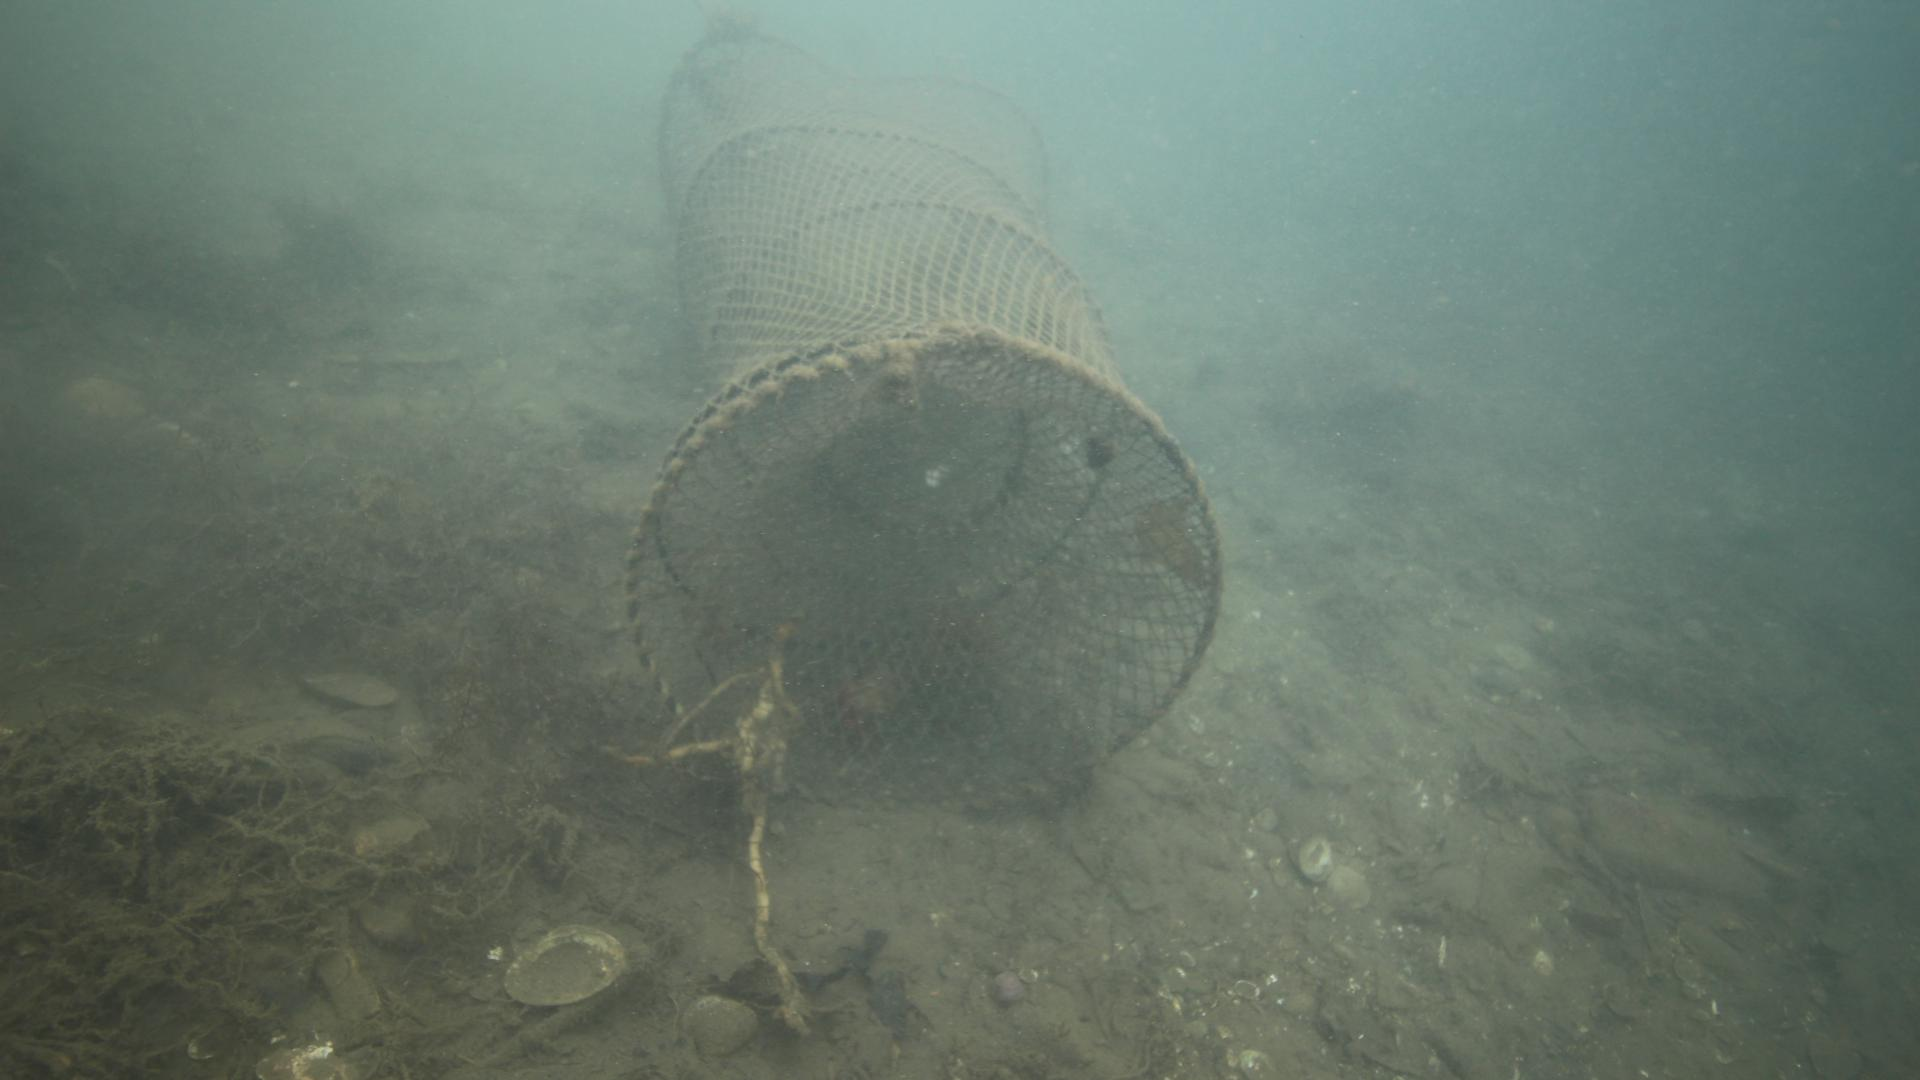spring fish trap: (621, 26, 1225, 820)
